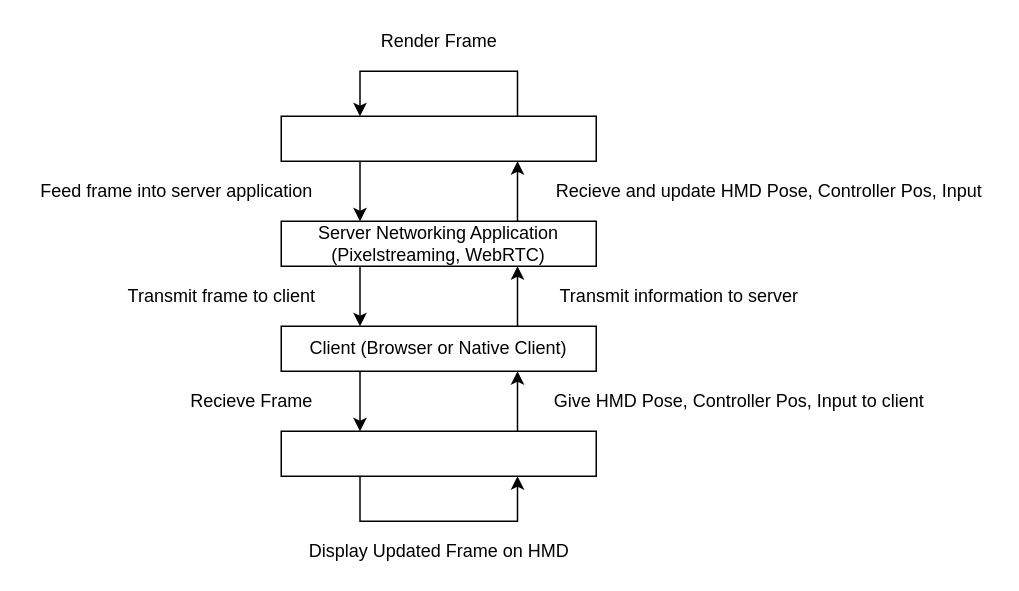
The diagram is 1019 pixels wide and 591 high, and some of its shapes have lost their labels. The box of each missing label's shape, as (x1, y1, x2, y2) in pixels:
HMD: (280, 430, 596, 476)
VR App (Unreal): (280, 115, 596, 161)
